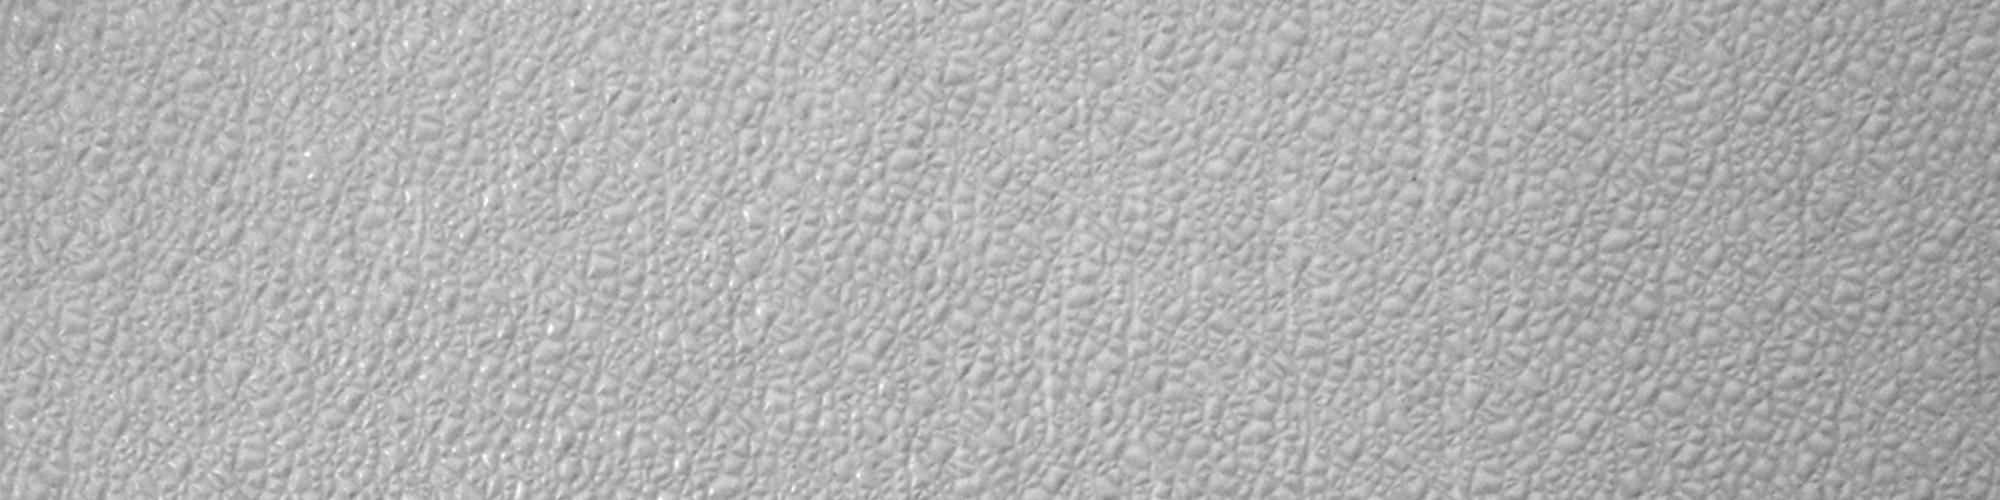Streaks: (1411, 83, 1459, 216), (1028, 344, 1068, 446)
